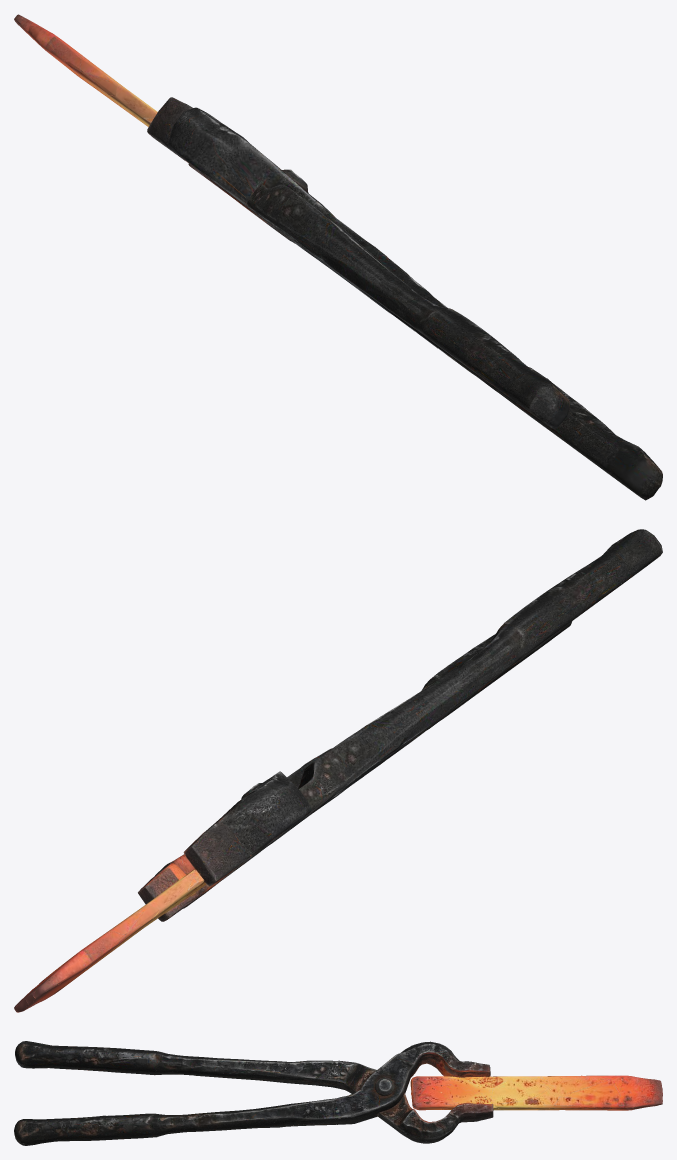
Rendered from tongs.glb.
3 renders of one model, top to bottom at view 1: azimuth 30°, elevation 25°; view 2: azimuth 150°, elevation 25°; view 3: azimuth 270°, elevation 25°, orthographic. The views are drawn at different scales.
Visible parts, largest first — view 1: Mesh_0; view 2: Mesh_0; view 3: Mesh_0.
Part boxes in pixels (x1,y1,x2,y2): Mesh_0: [14, 14, 662, 500]; Mesh_0: [14, 529, 662, 1012]; Mesh_0: [14, 1041, 662, 1145].
Bounding box in the file's own units: 0.1292 × 0.1283 × 0.9503.
Materials: 1 (1 with a texture image).
